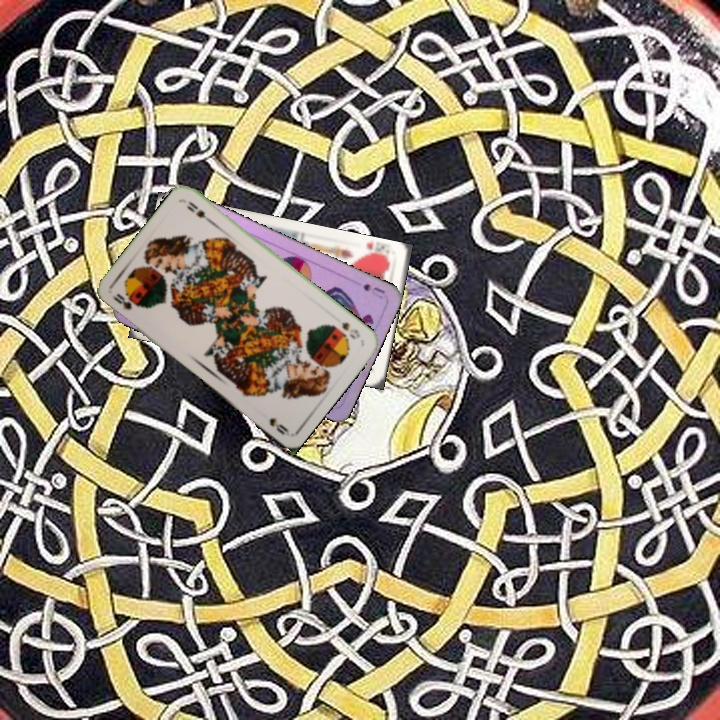HK: (361, 238, 391, 262)
SO: (328, 318, 363, 342), (108, 289, 142, 312)
SU: (359, 279, 388, 301)
